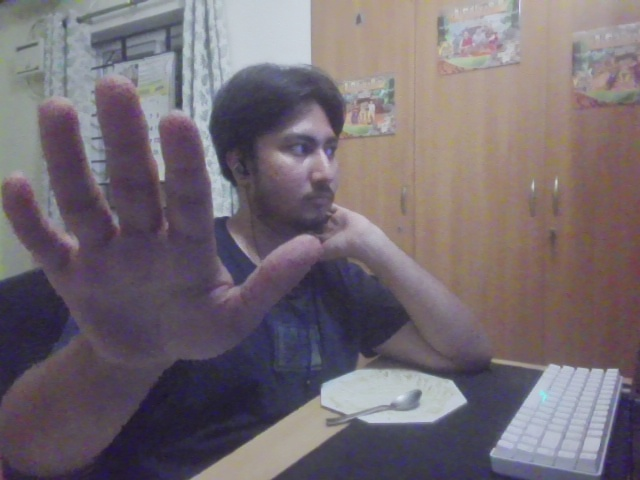hello: (2, 73, 327, 382)
